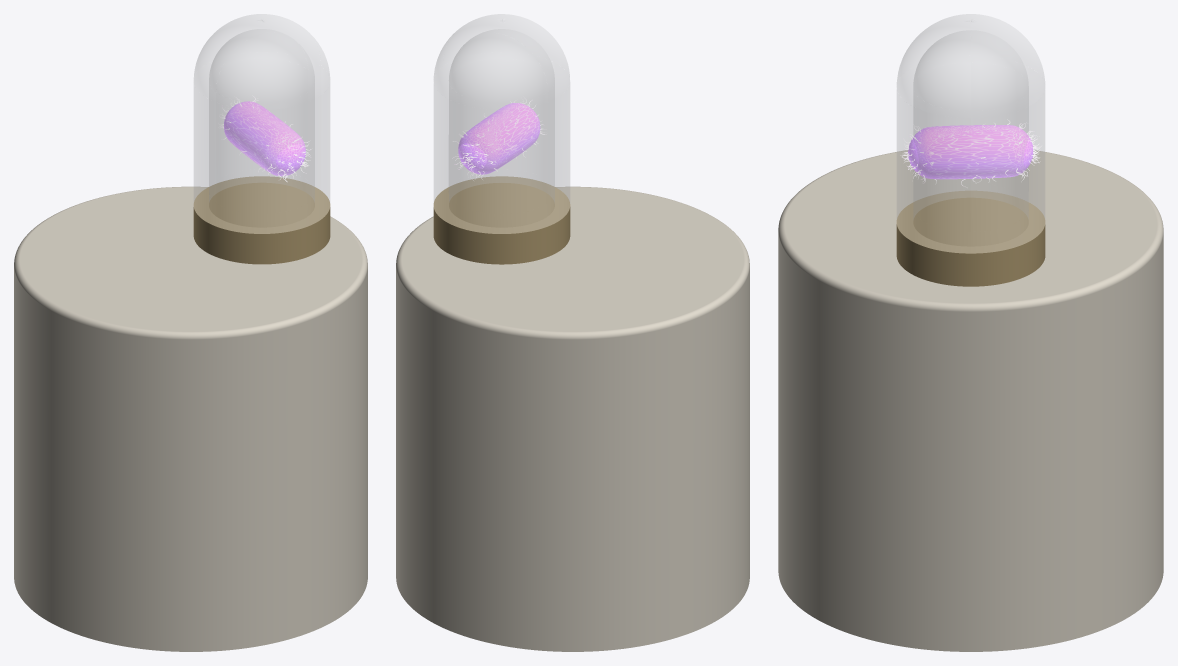
File: bacteria_small_01.glb
3 views of the same model, side by side, from view 1: azimuth 30°, elevation 25°; view 2: azimuth 150°, elevation 25°; view 3: azimuth 270°, elevation 25° (orthographic). The views are drawn at different scales.
Visible parts, largest first — view 1: PEANA_Vitrina_6, VITRINA_Campana_6, VITRINA_Base_6, Bacteria_Capsula; view 2: PEANA_Vitrina_6, VITRINA_Campana_6, VITRINA_Base_6, Bacteria_Capsula; view 3: PEANA_Vitrina_6, VITRINA_Campana_6, VITRINA_Base_6, Bacteria_Capsula, Bacteria_Pili.
Boxes of the visible parts, box(x1,y1,x2,y2) form: PEANA_Vitrina_6: box(14, 186, 367, 651); VITRINA_Campana_6: box(194, 14, 329, 233); VITRINA_Base_6: box(193, 176, 330, 264); Bacteria_Capsula: box(224, 101, 305, 176); PEANA_Vitrina_6: box(396, 186, 749, 651); VITRINA_Campana_6: box(434, 14, 569, 233); VITRINA_Base_6: box(433, 176, 570, 264); Bacteria_Capsula: box(458, 103, 540, 174); PEANA_Vitrina_6: box(778, 150, 1163, 651); VITRINA_Campana_6: box(897, 14, 1044, 253); VITRINA_Base_6: box(896, 190, 1045, 286); Bacteria_Capsula: box(908, 125, 1033, 179); Bacteria_Pili: box(900, 119, 1041, 185).
Size of the model in its own units: 0.5949 by 1 by 0.5949.
5 materials, 1 textured.
